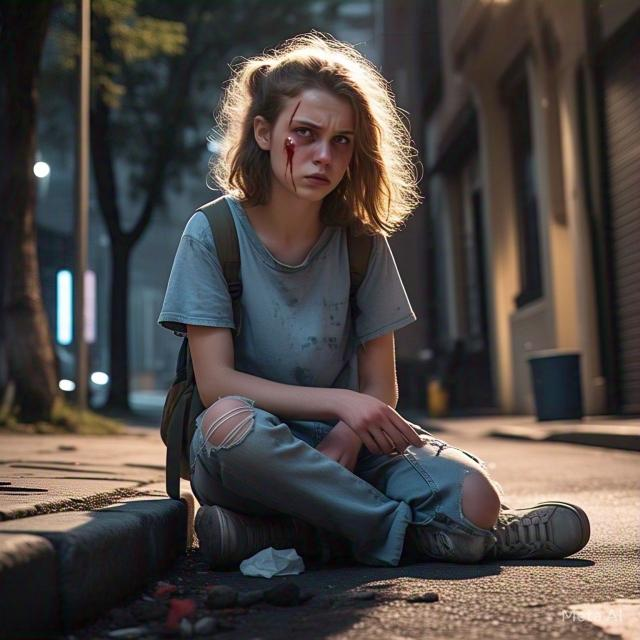injury: (209, 33, 424, 240), (284, 139, 294, 174)
